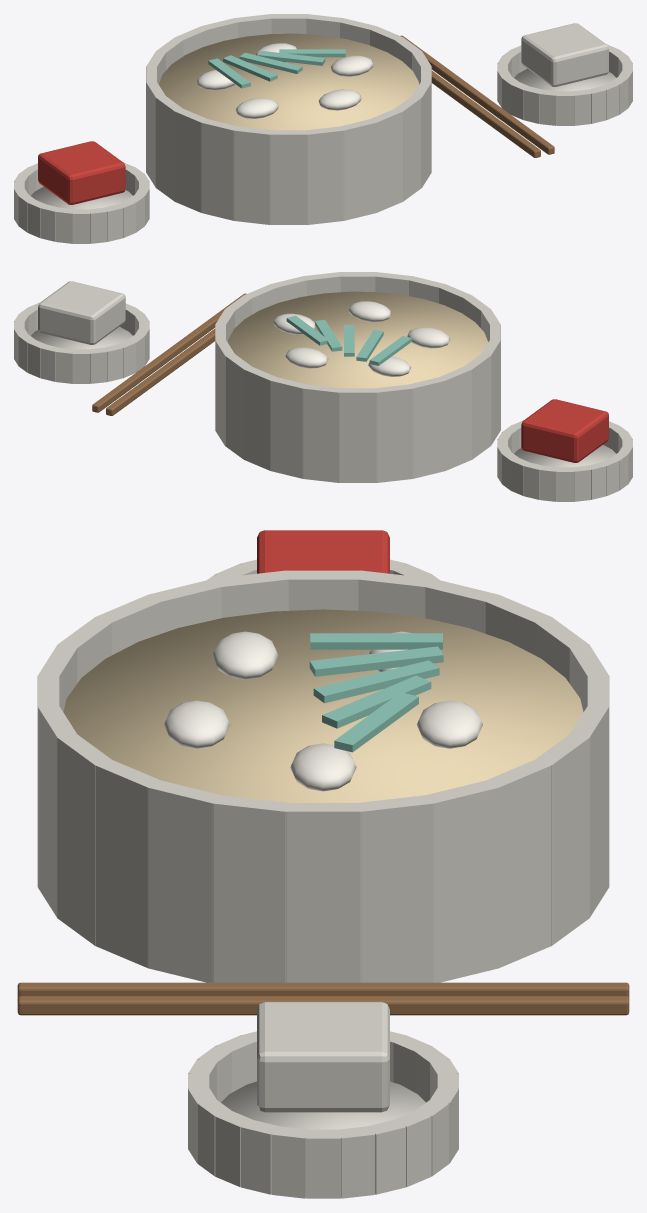
The model's file is DwaejiGukbap_blockout.glb.
3 renders of one model, top to bottom at view 1: azimuth 30°, elevation 25°; view 2: azimuth 150°, elevation 25°; view 3: azimuth 270°, elevation 25°, orthographic. The views are drawn at different scales.
Visible parts, largest first — view 1: FOOD09_DwaejiGukbap_Broth_L0, FOOD09_DwaejiGukbap_SideFood1_L0, FOOD09_DwaejiGukbap_SideFood0_L0, FOOD09_DwaejiGukbap_BowlRim16_L0, FOOD09_DwaejiGukbap_BowlRim17_L0, FOOD09_DwaejiGukbap_BowlRim15_L0, FOOD09_DwaejiGukbap_BowlRim14_L0, FOOD09_DwaejiGukbap_BowlRim18_L0, FOOD09_DwaejiGukbap_BowlRim13_L0, FOOD09_DwaejiGukbap_BowlRim19_L0, FOOD09_DwaejiGukbap_BowlRim12_L0, FOOD09_DwaejiGukbap_BowlRim20_L0 (+44 smaller); view 2: FOOD09_DwaejiGukbap_Broth_L0, FOOD09_DwaejiGukbap_SideFood1_L0, FOOD09_DwaejiGukbap_SideFood0_L0, FOOD09_DwaejiGukbap_BowlRim8_L0, FOOD09_DwaejiGukbap_BowlRim9_L0, FOOD09_DwaejiGukbap_BowlRim7_L0, FOOD09_DwaejiGukbap_BowlRim10_L0, FOOD09_DwaejiGukbap_BowlRim6_L0, FOOD09_DwaejiGukbap_BowlRim11_L0, FOOD09_DwaejiGukbap_BowlRim5_L0, FOOD09_DwaejiGukbap_BowlRim12_L0, FOOD09_DwaejiGukbap_BowlRim4_L0 (+45 smaller); view 3: FOOD09_DwaejiGukbap_Broth_L0, FOOD09_DwaejiGukbap_SideFood1_L0, FOOD09_DwaejiGukbap_BowlRim23_L0, FOOD09_DwaejiGukbap_BowlRim1_L0, FOOD09_DwaejiGukbap_BowlRim0_L0, FOOD09_DwaejiGukbap_BowlRim2_L0, FOOD09_DwaejiGukbap_BowlRim22_L0, FOOD09_DwaejiGukbap_BowlRim3_L0, FOOD09_DwaejiGukbap_BowlRim21_L0, FOOD09_DwaejiGukbap_Chopstick1_L0, FOOD09_DwaejiGukbap_Chopstick0_L0, FOOD09_DwaejiGukbap_BowlRim4_L0 (+40 smaller).
Part boxes in pixels (left/top/right/bottom): FOOD09_DwaejiGukbap_Broth_L0: left=158, top=33, right=418, bottom=130; FOOD09_DwaejiGukbap_SideFood1_L0: left=521, top=23, right=608, bottom=86; FOOD09_DwaejiGukbap_SideFood0_L0: left=38, top=141, right=125, bottom=204; FOOD09_DwaejiGukbap_BowlRim16_L0: left=269, top=130, right=307, bottom=224; FOOD09_DwaejiGukbap_BowlRim17_L0: left=306, top=126, right=344, bottom=224; FOOD09_DwaejiGukbap_BowlRim15_L0: left=233, top=126, right=271, bottom=224; FOOD09_DwaejiGukbap_BowlRim14_L0: left=201, top=119, right=238, bottom=220; FOOD09_DwaejiGukbap_BowlRim18_L0: left=339, top=118, right=376, bottom=220; FOOD09_DwaejiGukbap_BowlRim13_L0: left=175, top=108, right=207, bottom=212; FOOD09_DwaejiGukbap_BowlRim19_L0: left=371, top=108, right=402, bottom=212; FOOD09_DwaejiGukbap_BowlRim12_L0: left=155, top=95, right=183, bottom=201; FOOD09_DwaejiGukbap_BowlRim20_L0: left=394, top=95, right=421, bottom=201; FOOD09_DwaejiGukbap_Broth_L0: left=228, top=291, right=488, bottom=388; FOOD09_DwaejiGukbap_SideFood1_L0: left=38, top=281, right=125, bottom=344; FOOD09_DwaejiGukbap_SideFood0_L0: left=521, top=399, right=608, bottom=462; FOOD09_DwaejiGukbap_BowlRim8_L0: left=339, top=388, right=377, bottom=482; FOOD09_DwaejiGukbap_BowlRim9_L0: left=374, top=384, right=413, bottom=482; FOOD09_DwaejiGukbap_BowlRim7_L0: left=302, top=384, right=340, bottom=482; FOOD09_DwaejiGukbap_BowlRim10_L0: left=408, top=377, right=445, bottom=478; FOOD09_DwaejiGukbap_BowlRim6_L0: left=270, top=377, right=307, bottom=478; FOOD09_DwaejiGukbap_BowlRim11_L0: left=439, top=366, right=471, bottom=470; FOOD09_DwaejiGukbap_BowlRim5_L0: left=244, top=366, right=277, bottom=470; FOOD09_DwaejiGukbap_BowlRim12_L0: left=464, top=353, right=491, bottom=459; FOOD09_DwaejiGukbap_BowlRim4_L0: left=225, top=353, right=252, bottom=459; FOOD09_DwaejiGukbap_Broth_L0: left=63, top=609, right=583, bottom=802; FOOD09_DwaejiGukbap_SideFood1_L0: left=257, top=1002, right=389, bottom=1112; FOOD09_DwaejiGukbap_BowlRim23_L0: left=212, top=795, right=291, bottom=982; FOOD09_DwaejiGukbap_BowlRim1_L0: left=356, top=795, right=434, bottom=982; FOOD09_DwaejiGukbap_BowlRim0_L0: left=285, top=803, right=361, bottom=982; FOOD09_DwaejiGukbap_BowlRim2_L0: left=427, top=780, right=499, bottom=982; FOOD09_DwaejiGukbap_BowlRim22_L0: left=147, top=780, right=219, bottom=982; FOOD09_DwaejiGukbap_BowlRim3_L0: left=486, top=759, right=552, bottom=968; FOOD09_DwaejiGukbap_BowlRim21_L0: left=94, top=760, right=162, bottom=968; FOOD09_DwaejiGukbap_Chopstick1_L0: left=17, top=996, right=629, bottom=1015; FOOD09_DwaejiGukbap_Chopstick0_L0: left=17, top=982, right=629, bottom=998; FOOD09_DwaejiGukbap_BowlRim4_L0: left=534, top=733, right=589, bottom=945.
Size of the model in its own units: 0.522 by 0.0785 by 0.23.
